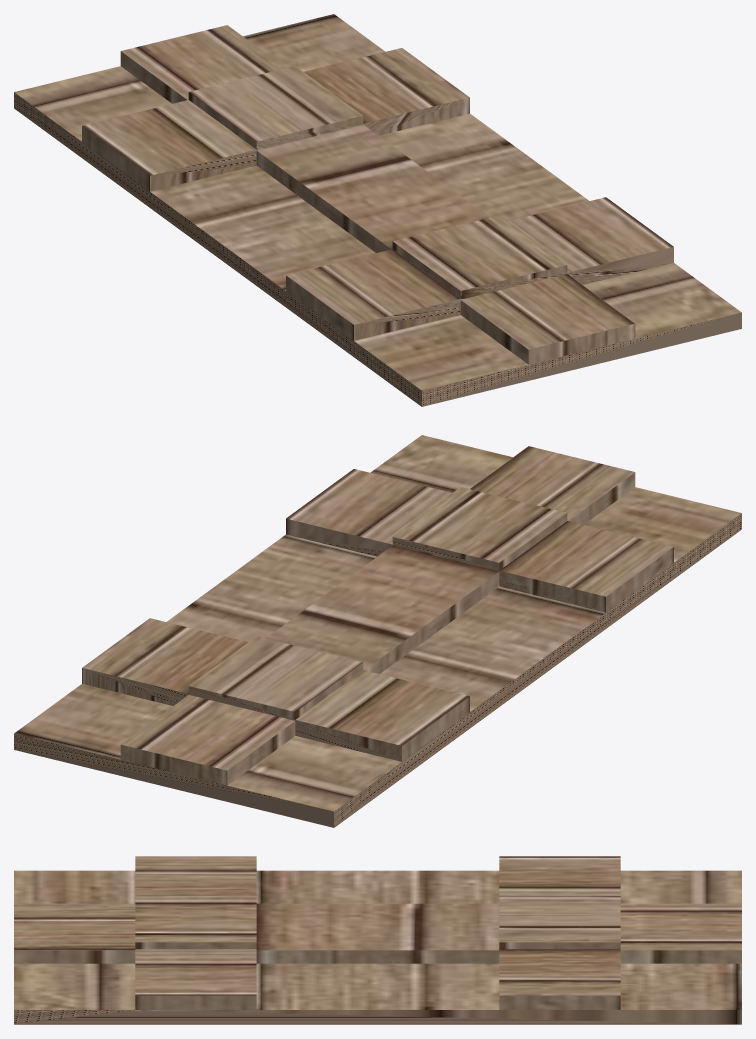
Rendered from top_part_caisse_soutenance2.fbx.
3 renders of one model, top to bottom at view 1: azimuth 30°, elevation 25°; view 2: azimuth 150°, elevation 25°; view 3: azimuth 270°, elevation 25°, orthographic. The views are drawn at different scales.
Visible parts, largest first — view 1: Cube; view 2: Cube; view 3: Cube.
Part boxes in pixels (<box>): Cube: <box>14,14,741,406</box>; Cube: <box>14,435,741,827</box>; Cube: <box>14,856,741,1024</box>.
Size of the model in its own units: 36.98 by 4.43 by 81.62.
